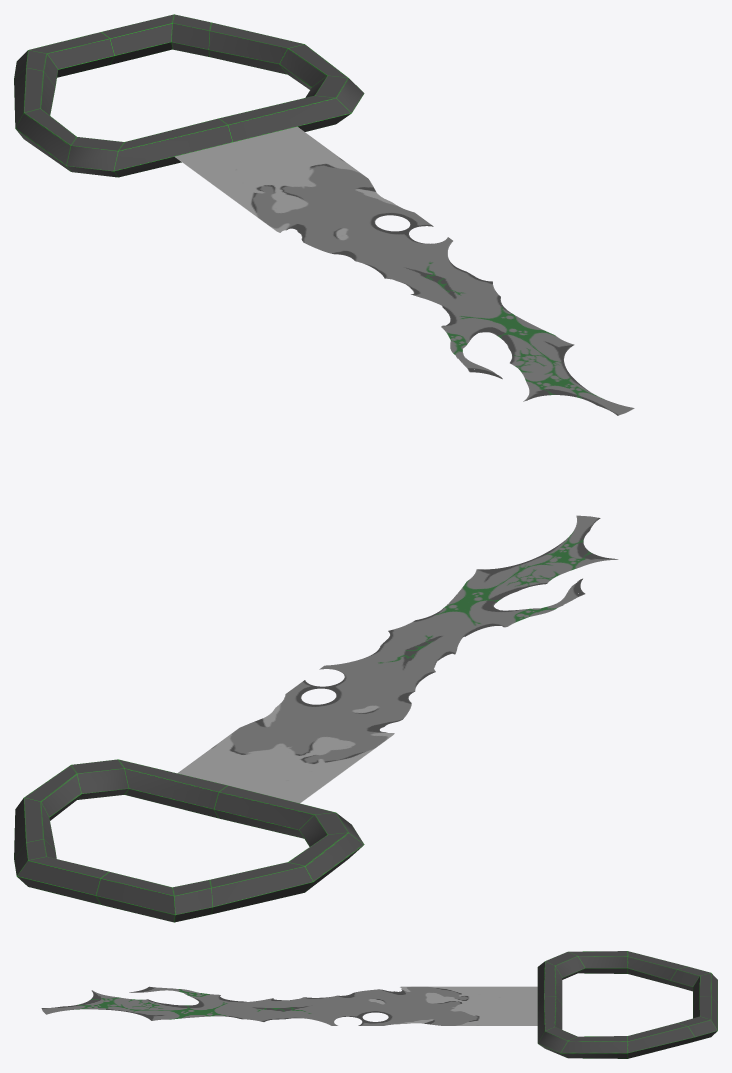
The model's file is KEY.fbx.
The picture shows the model from 3 angles, top to bottom: view 1: azimuth 30°, elevation 25°; view 2: azimuth 150°, elevation 25°; view 3: azimuth 270°, elevation 25°; orthographic projection. The views are drawn at different scales.
Parts seen in each view (by area): view 1: KEY; view 2: KEY; view 3: KEY.
Part boxes in pixels (left/top/right/bottom): KEY: left=14, top=14, right=634, bottom=415; KEY: left=14, top=515, right=618, bottom=922; KEY: left=41, top=951, right=717, bottom=1058.
Size of the model in its own units: 0.0379 by 0.00321 by 0.1174.
Materials: 1 (1 with a texture image).
